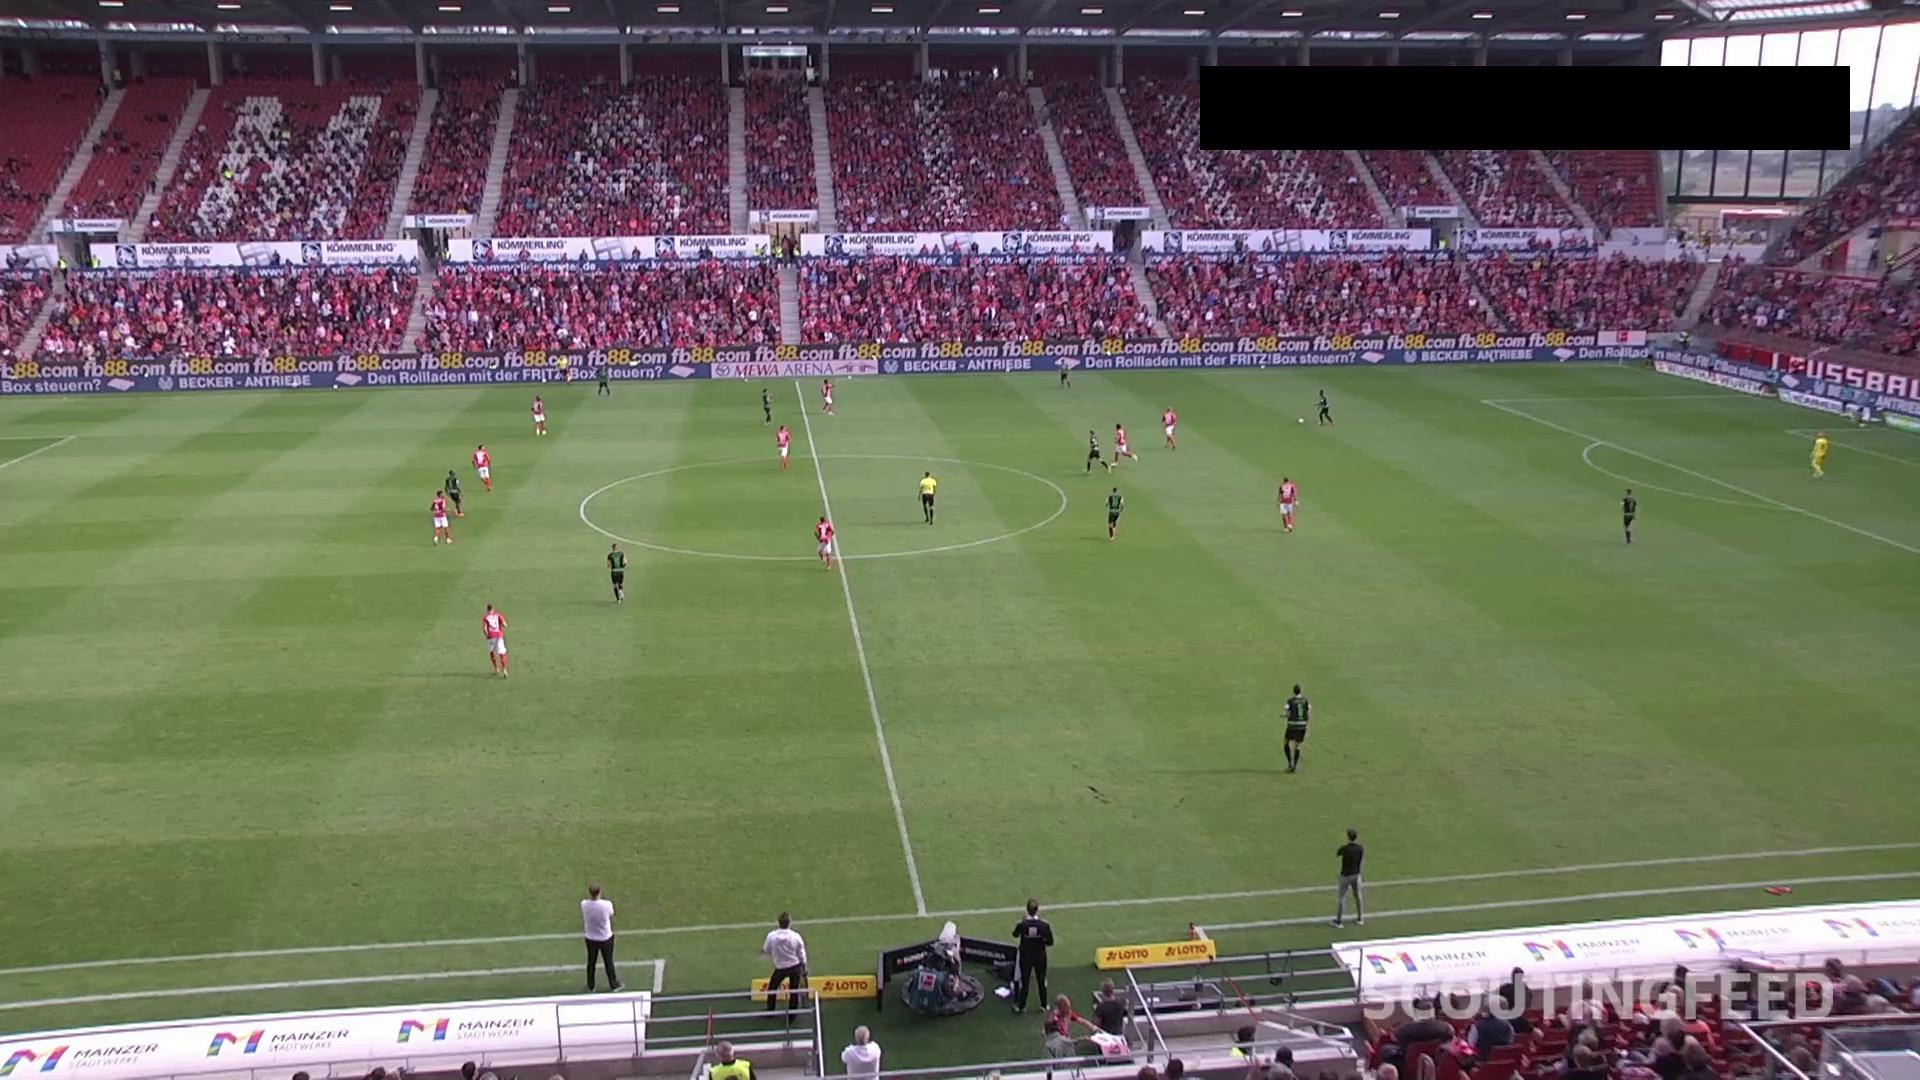Location-of-ball: (1291, 409, 1317, 430)
